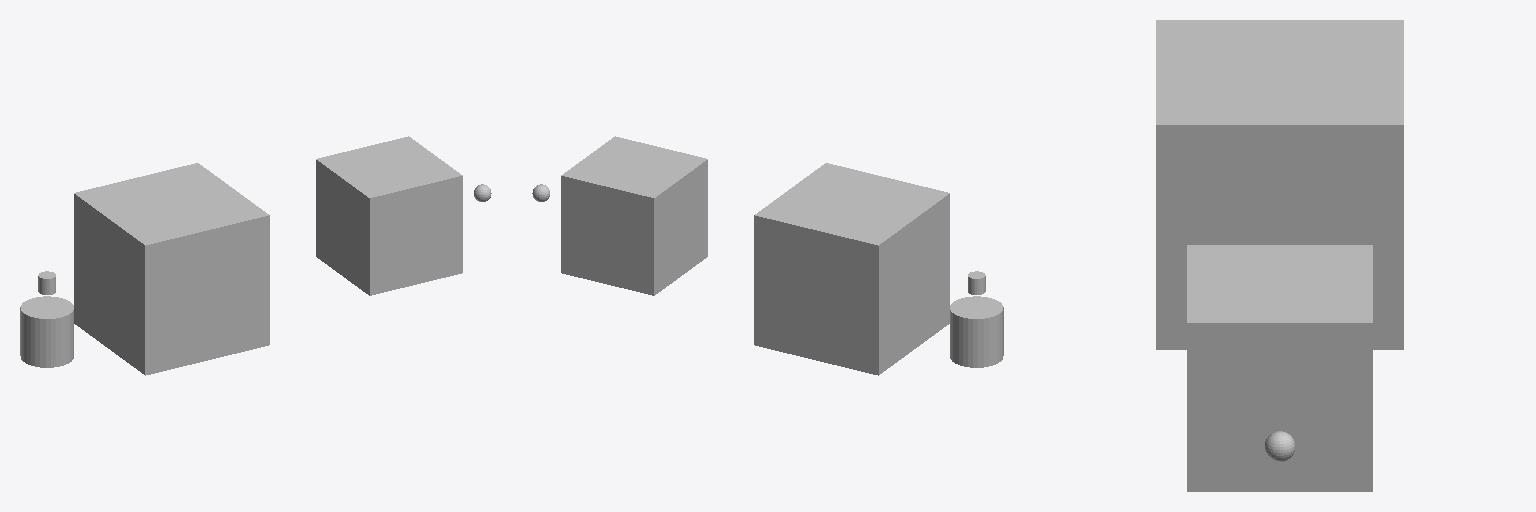
The robot description file, URDF, robot "HoloScriptTwoDoFArm":
<?xml version="1.0"?>
<!-- Auto-generated by HoloScript URDFCompiler v2.0 -->
<!-- Source: composition "TwoDoFRobotArm" -->
<!-- Target: ROS 2 / Gazebo / MoveIt 2 / RViz2 -->

<robot name="HoloScriptTwoDoFArm">
  <!-- Materials -->
  <material name="default">
    <color rgba="0.8 0.8 0.8 1"/>
  </material>

  <link name="base_link">
    <inertial>
      <mass value="0.001"/>
      <inertia ixx="0.001000" ixy="0" ixz="0" iyy="0.001000" iyz="0" izz="0.001000"/>
    </inertial>
  </link>

  <link name="base">
    <visual>
      <origin xyz="0 0 0.05" rpy="0.000000 0.000000 0.000000"/>
      <geometry>
        <cylinder radius="0.075" length="0.15"/>
      </geometry>
      <material name="default"/>
    </visual>
    <collision>
      <origin xyz="0 0 0.05" rpy="0.000000 0.000000 0.000000"/>
      <geometry>
        <cylinder radius="0.075" length="0.15"/>
      </geometry>
    </collision>
    <inertial>
      <mass value="10"/>
      <inertia ixx="0.032812" ixy="0" ixz="0" iyy="0.032812" iyz="0" izz="0.028125"/>
    </inertial>
  </link>

  <link name="shoulderjoint">
    <visual>
      <origin xyz="0 0 0.1" rpy="0.000000 0.000000 0.000000"/>
      <geometry>
        <cylinder radius="0.025" length="0.05"/>
      </geometry>
      <material name="default"/>
    </visual>
    <collision>
      <origin xyz="0 0 0.1" rpy="0.000000 0.000000 0.000000"/>
      <geometry>
        <cylinder radius="0.025" length="0.05"/>
      </geometry>
    </collision>
    <inertial>
      <mass value="0.5"/>
      <inertia ixx="0.000182" ixy="0" ixz="0" iyy="0.000182" iyz="0" izz="0.000156"/>
    </inertial>
  </link>

  <link name="upperarm">
    <visual>
      <origin xyz="0.2 0 0.1" rpy="0.000000 0.000000 0.000000"/>
      <geometry>
        <box size="0.4 0.4 0.4"/>
      </geometry>
      <material name="default"/>
    </visual>
    <collision>
      <origin xyz="0.2 0 0.1" rpy="0.000000 0.000000 0.000000"/>
      <geometry>
        <box size="0.4 0.4 0.4"/>
      </geometry>
    </collision>
    <inertial>
      <mass value="2"/>
      <inertia ixx="0.053333" ixy="0" ixz="0" iyy="0.053333" iyz="0" izz="0.053333"/>
    </inertial>
  </link>

  <link name="elbowjoint">
    <visual>
      <origin xyz="0.4 0 0.1" rpy="0.000000 0.000000 0.000000"/>
      <geometry>
        <cylinder radius="0.02" length="0.04"/>
      </geometry>
      <material name="default"/>
    </visual>
    <collision>
      <origin xyz="0.4 0 0.1" rpy="0.000000 0.000000 0.000000"/>
      <geometry>
        <cylinder radius="0.02" length="0.04"/>
      </geometry>
    </collision>
    <inertial>
      <mass value="0.3"/>
      <inertia ixx="0.000070" ixy="0" ixz="0" iyy="0.000070" iyz="0" izz="0.000060"/>
    </inertial>
  </link>

  <link name="forearm">
    <visual>
      <origin xyz="0.55 0 0.1" rpy="0.000000 0.000000 0.000000"/>
      <geometry>
        <box size="0.3 0.3 0.3"/>
      </geometry>
      <material name="default"/>
    </visual>
    <collision>
      <origin xyz="0.55 0 0.1" rpy="0.000000 0.000000 0.000000"/>
      <geometry>
        <box size="0.3 0.3 0.3"/>
      </geometry>
    </collision>
    <inertial>
      <mass value="1"/>
      <inertia ixx="0.015000" ixy="0" ixz="0" iyy="0.015000" iyz="0" izz="0.015000"/>
    </inertial>
  </link>

  <link name="endeffector">
    <visual>
      <origin xyz="0.7 0 0.1" rpy="0.000000 0.000000 0.000000"/>
      <geometry>
        <sphere radius="0.025"/>
      </geometry>
      <material name="default"/>
    </visual>
    <collision>
      <origin xyz="0.7 0 0.1" rpy="0.000000 0.000000 0.000000"/>
      <geometry>
        <sphere radius="0.025"/>
      </geometry>
    </collision>
    <inertial>
      <mass value="0.2"/>
      <inertia ixx="0.000050" ixy="0" ixz="0" iyy="0.000050" iyz="0" izz="0.000050"/>
    </inertial>
  </link>

  <joint name="base_link_to_base_joint" type="fixed">
    <parent link="base_link"/>
    <child link="base"/>
    <origin xyz="0 0 0.05" rpy="0.000000 0.000000 0.000000"/>
  </joint>

  <joint name="base_to_shoulderjoint_joint" type="revolute">
    <parent link="base"/>
    <child link="shoulderjoint"/>
    <origin xyz="0 0 0.1" rpy="0.000000 0.000000 0.000000"/>
    <axis xyz="0 0 1"/>
    <limit lower="-3.141592653589793" upper="3.141592653589793" effort="100" velocity="1"/>
    <dynamics damping="0.1" friction="0"/>
  </joint>

  <joint name="base_link_to_upperarm_joint" type="fixed">
    <parent link="base_link"/>
    <child link="upperarm"/>
    <origin xyz="0.2 0 0.1" rpy="0.000000 0.000000 0.000000"/>
  </joint>

  <joint name="upperarm_to_elbowjoint_joint" type="revolute">
    <parent link="upperarm"/>
    <child link="elbowjoint"/>
    <origin xyz="0.4 0 0.1" rpy="0.000000 0.000000 0.000000"/>
    <axis xyz="0 0 1"/>
    <limit lower="-2.356194490192345" upper="2.356194490192345" effort="50" velocity="1"/>
    <dynamics damping="0.1" friction="0"/>
  </joint>

  <joint name="base_link_to_forearm_joint" type="fixed">
    <parent link="base_link"/>
    <child link="forearm"/>
    <origin xyz="0.55 0 0.1" rpy="0.000000 0.000000 0.000000"/>
  </joint>

  <joint name="base_link_to_endeffector_joint" type="fixed">
    <parent link="base_link"/>
    <child link="endeffector"/>
    <origin xyz="0.7 0 0.1" rpy="0.000000 0.000000 0.000000"/>
  </joint>


  <!-- HoloScript Extensions -->
  <!-- Original composition: "TwoDoFRobotArm" -->
</robot>

--- Facts derived from the render (not from the file) ---
Views: 3 orthographic renders of the robot side by side, from view 1: azimuth 30°, elevation 25°; view 2: azimuth 150°, elevation 25°; view 3: azimuth 270°, elevation 25°.
Robot: HoloScriptTwoDoFArm — 7 links, 6 joints (2 revolute, 4 fixed); root link base_link; default pose: all joints at 0.
Links seen in each view (by area): view 1: upperarm, forearm, base; view 2: upperarm, forearm, base; view 3: upperarm, forearm, endeffector.
Link boxes in pixels (x1=…): upperarm: x1=74, y1=163, x2=269, y2=375; forearm: x1=316, y1=136, x2=462, y2=295; base: x1=20, y1=296, x2=73, y2=367; upperarm: x1=754, y1=163, x2=949, y2=375; forearm: x1=561, y1=136, x2=707, y2=295; base: x1=950, y1=296, x2=1003, y2=367; upperarm: x1=1156, y1=20, x2=1403, y2=349; forearm: x1=1187, y1=245, x2=1372, y2=491; endeffector: x1=1265, y1=431, x2=1294, y2=461.
Bounding box of the posed robot: 1.5 × 0.4 × 0.4 m (x, y, z).
Geometry: primitives only (box / cylinder / sphere), no mesh files.
